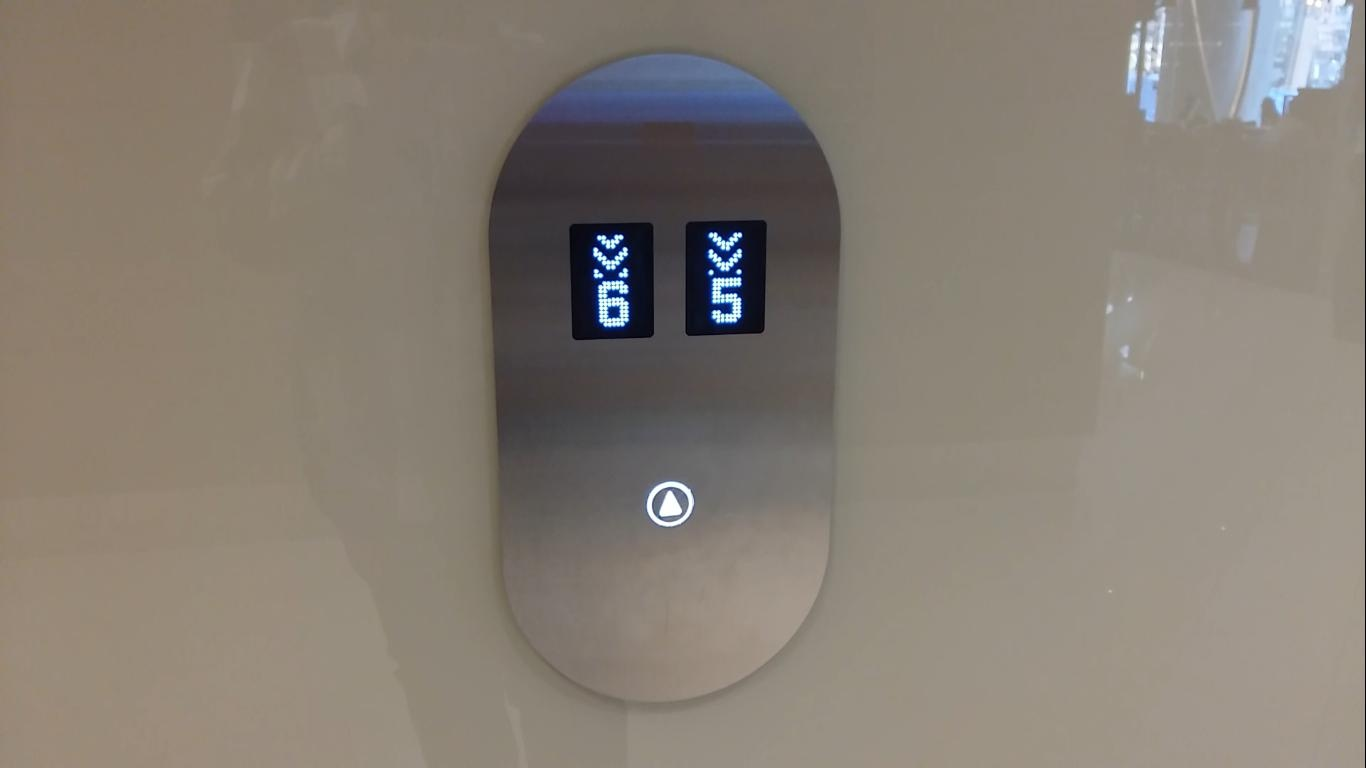led: (565, 218, 659, 344), (679, 213, 770, 340)
up: (642, 476, 698, 532)
